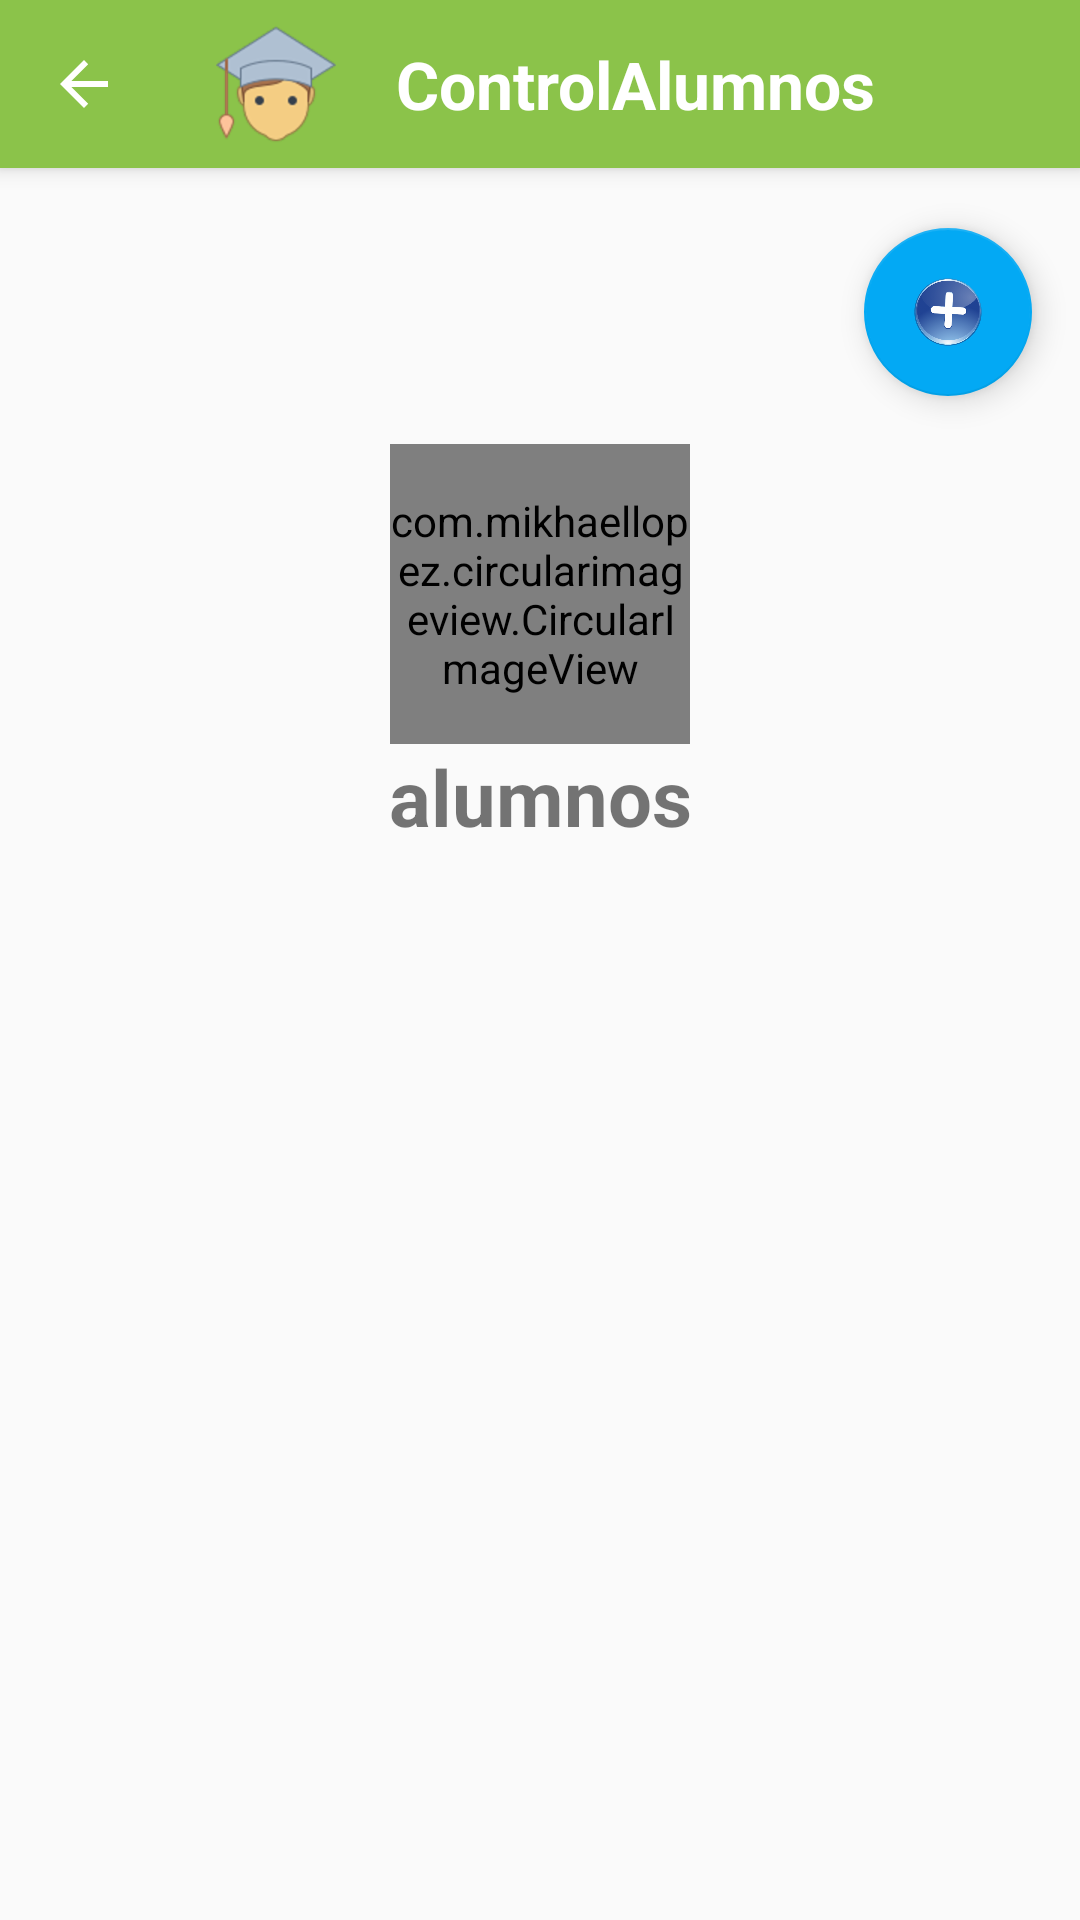

Icons on this 1080×1920 Android screen, each with its box as region(x1, y1, x2, y2):
add: region(864, 228, 1032, 396)
estudiante masculino: region(216, 27, 336, 141)
